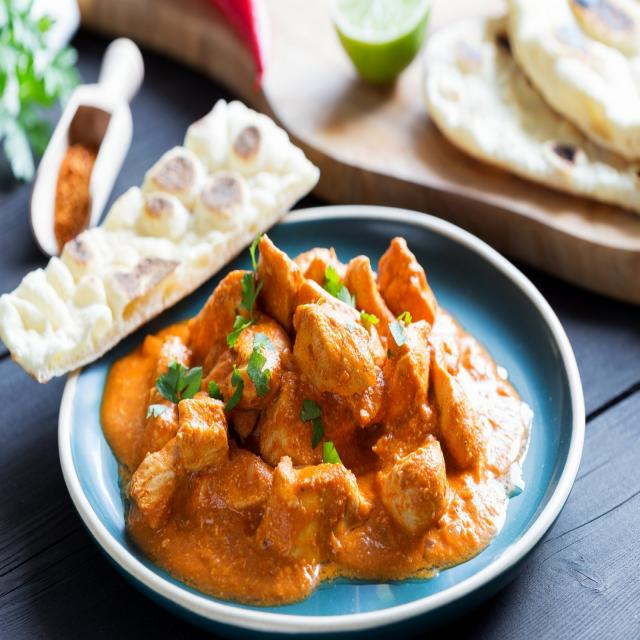Chicken Gravy: (93, 238, 533, 613)
